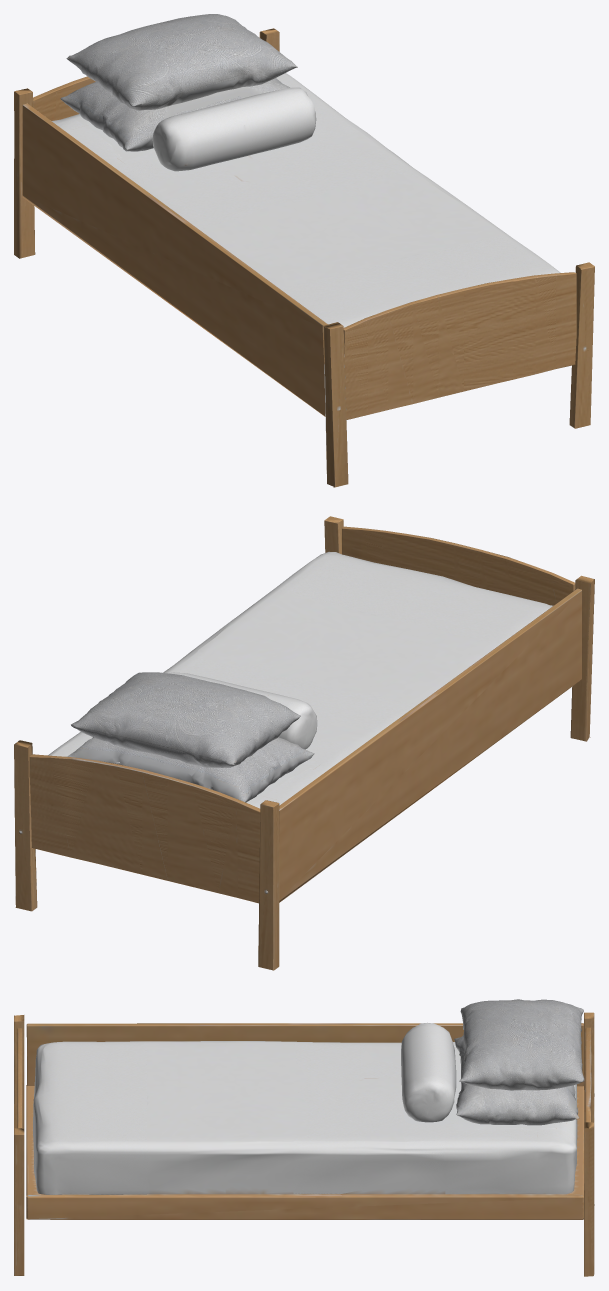
The model's file is Meshy_AI_Wooden_Single_Bed_wit_1020124637_texture.glb.
The picture shows the model from 3 angles, top to bottom: view 1: azimuth 30°, elevation 25°; view 2: azimuth 150°, elevation 25°; view 3: azimuth 270°, elevation 25°; orthographic projection. The views are drawn at different scales.
Bounding box in the file's own units: 0.4604 × 0.3628 × 0.9536.
Materials: 1 (1 with a texture image).
